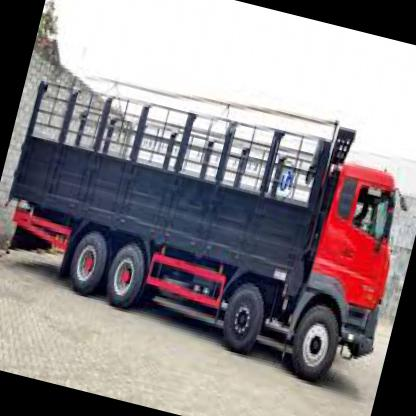truck: (279, 155, 415, 396)
